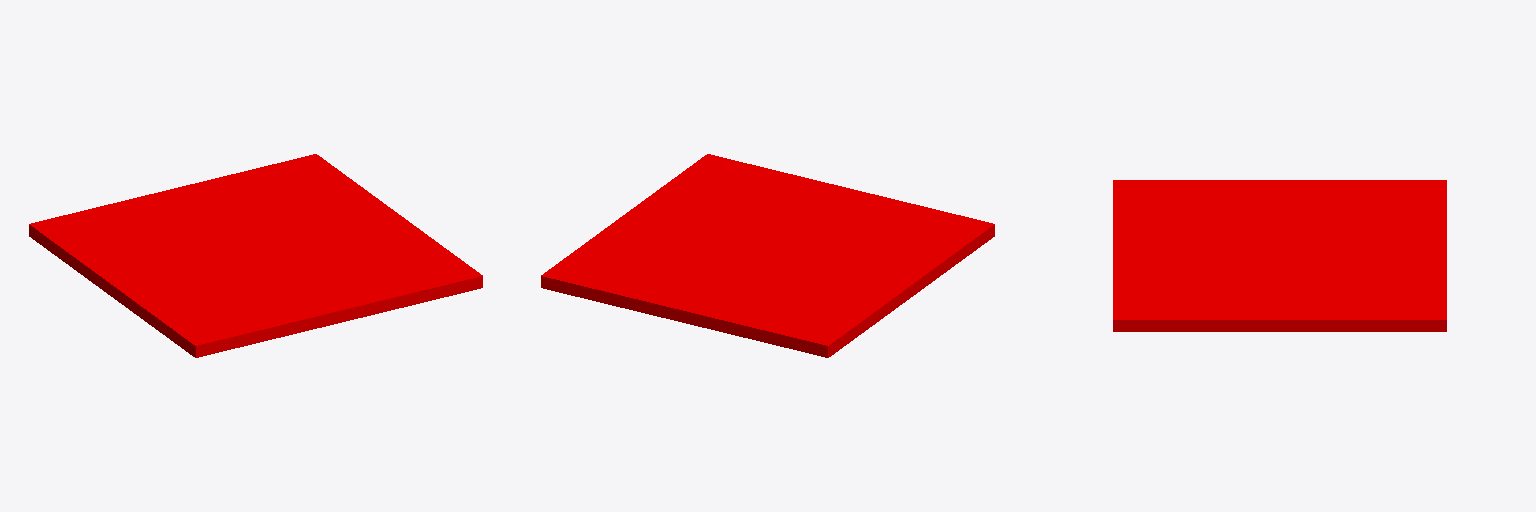
Rendered from simpleRoofFlat.obj.
3 views of the same model, side by side, from view 1: azimuth 30°, elevation 25°; view 2: azimuth 150°, elevation 25°; view 3: azimuth 270°, elevation 25° (orthographic).
Parts seen in each view (by area): view 1: Cube.008_Cube.042; view 2: Cube.008_Cube.042; view 3: Cube.008_Cube.042.
Boxes of the visible parts, <box> form: Cube.008_Cube.042: <box>29,154,482,357</box>; Cube.008_Cube.042: <box>541,154,994,357</box>; Cube.008_Cube.042: <box>1113,180,1446,331</box>.
Size of the model in its own units: 1.01 by 0.0407 by 1.01.